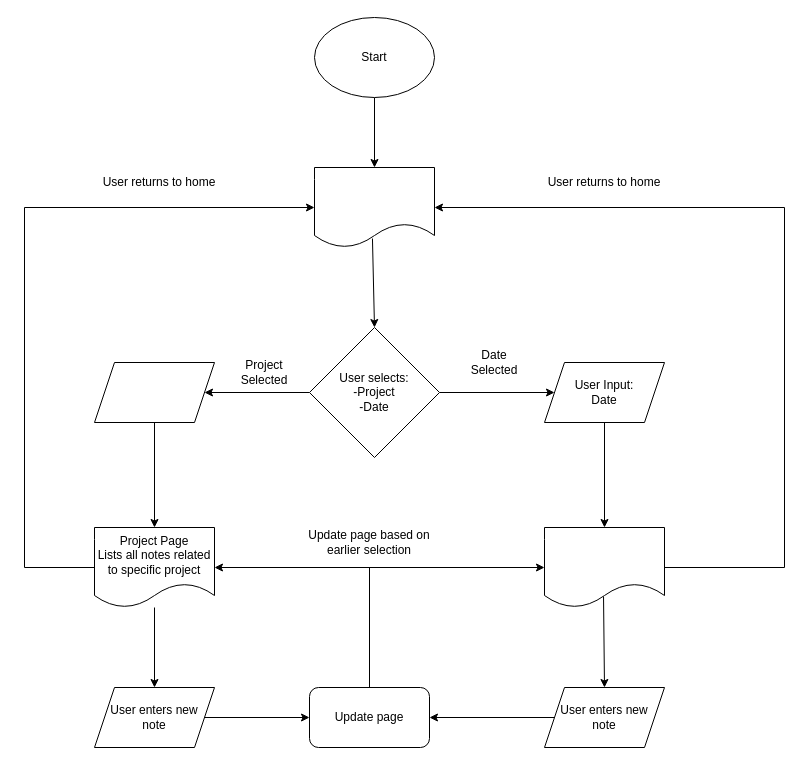
The diagram is 810 pixels wide and 765 high, and some of its shapes have lost their labels. The shapes that lost their labels are listed below. From the top down, each one's centre as x and y in pixels, then its label:
At (x=374, y=207): "-Landing page- Lists projects Optional to select notes by date".
At (x=154, y=392): "User Input: Project".
At (x=604, y=567): "Date page Lists all notes related to a specific date".
